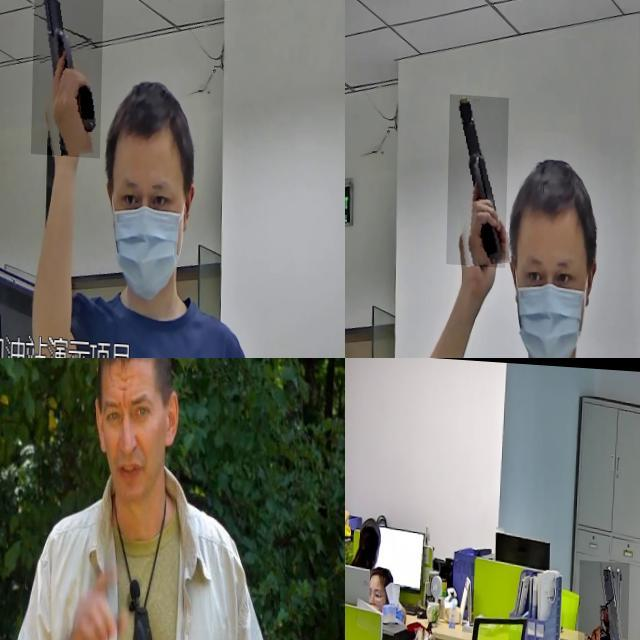gun-knife-thesis - v11 Yolov5 augmented: (32, 0, 105, 156), (448, 90, 511, 263), (578, 556, 630, 640)
